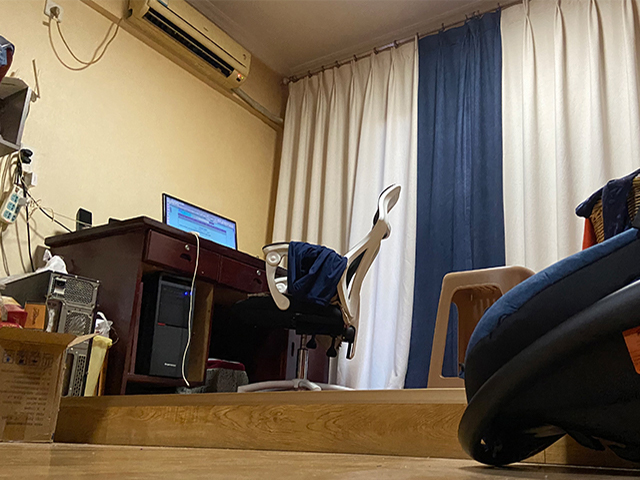curtain: (271, 1, 640, 391)
stool: (235, 182, 403, 394), (425, 265, 536, 388)
table: (44, 215, 330, 396)
